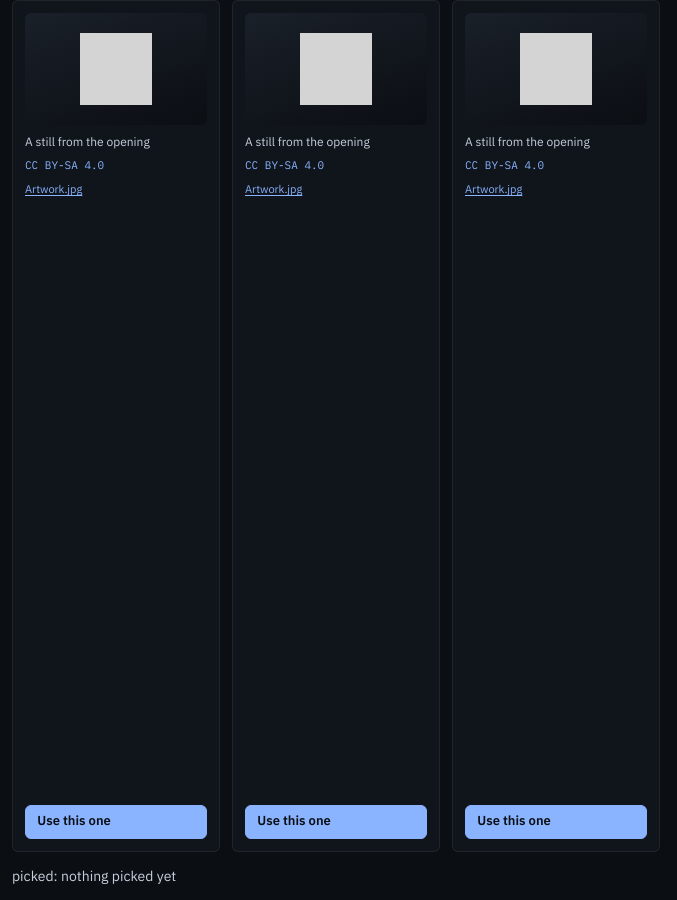
HeroCandidates › hands back the position of the image that was picked
The width and height of the screenshot is (677, 900).
Step 1. Click the 3rd button "Use this one" → (556, 822), box left=465, top=805, right=647, bottom=839
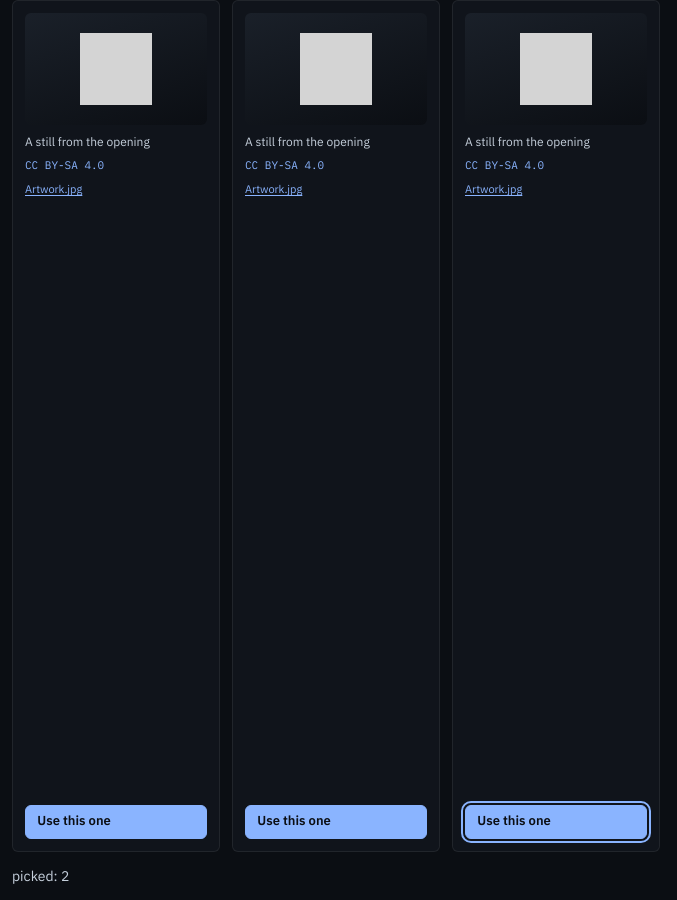
Check: the text "picked: 2" is shown, box left=12, top=867, right=69, bottom=885
